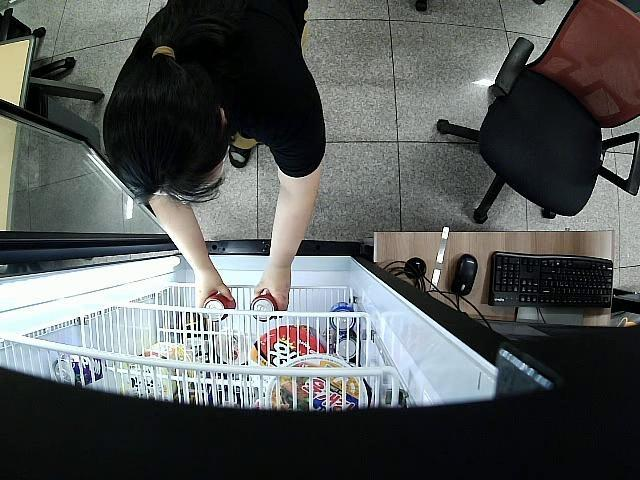11_cocaColaZero: (202, 293, 236, 320), (250, 290, 277, 322)
